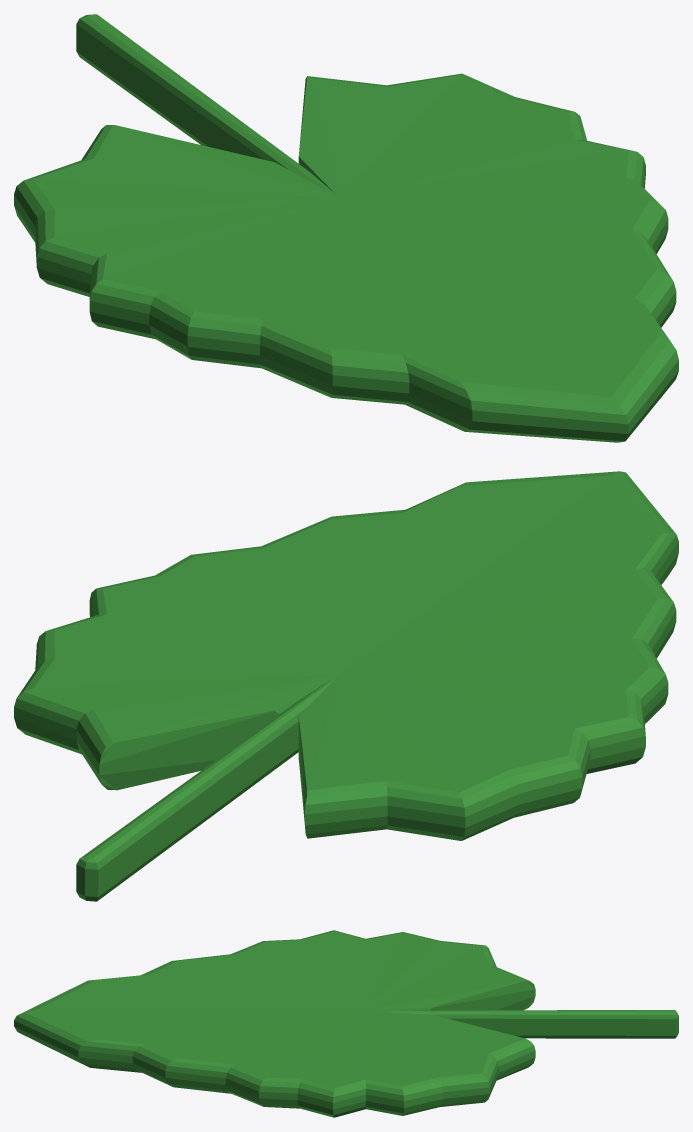
Rendered from HojaSelva.fbx.
3 renders of one model, top to bottom at view 1: azimuth 30°, elevation 25°; view 2: azimuth 150°, elevation 25°; view 3: azimuth 270°, elevation 25°, orthographic. The views are drawn at different scales.
Parts seen in each view (by area): view 1: HojaSelvatica; view 2: HojaSelvatica; view 3: HojaSelvatica.
Boxes of the visible parts, bbox=[...] form: HojaSelvatica: bbox=[14, 14, 678, 442]; HojaSelvatica: bbox=[14, 471, 678, 901]; HojaSelvatica: bbox=[14, 930, 678, 1117].
Bounding box in the file's own units: 2.68 × 0.2223 × 4.53.
